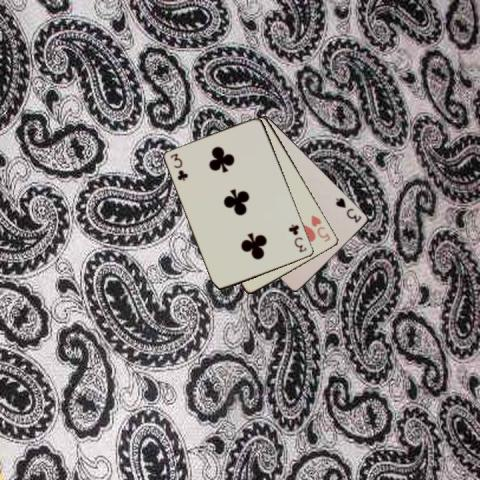3c: (286, 222, 308, 254), (168, 150, 189, 182)
3s: (334, 195, 364, 224)
5h: (308, 212, 332, 243)
